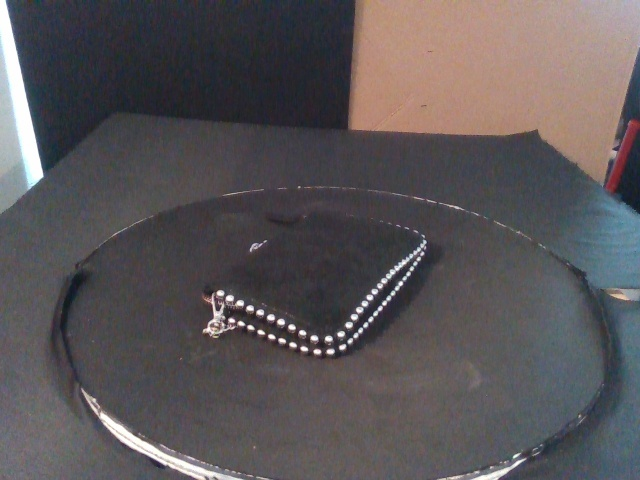bag: (199, 209, 428, 359)
